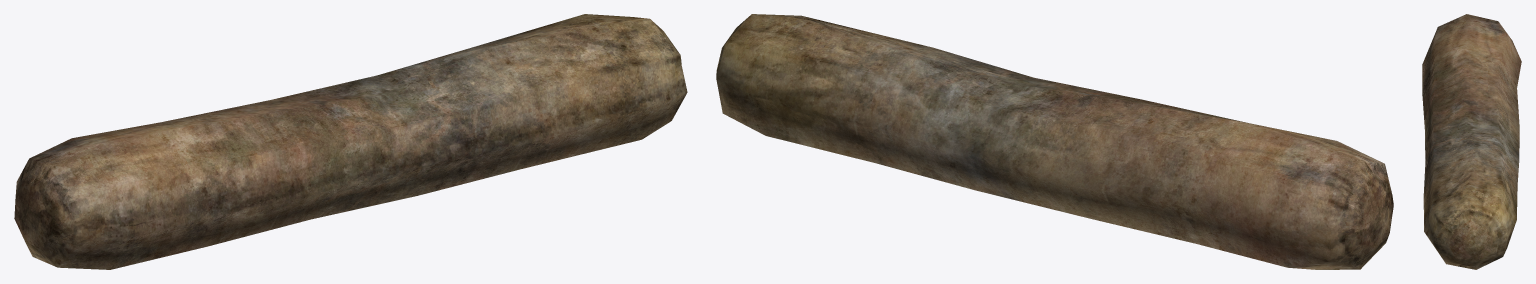
File: oldBolster.FBX
3 views of the same model, side by side, from view 1: azimuth 30°, elevation 25°; view 2: azimuth 150°, elevation 25°; view 3: azimuth 270°, elevation 25° (orthographic). The views are drawn at different scales.
Parts seen in each view (by area): view 1: SM_OldBolster01; view 2: SM_OldBolster01; view 3: SM_OldBolster01.
Part boxes in pixels (left/top/right/bottom): SM_OldBolster01: left=14, top=14, right=687, bottom=269; SM_OldBolster01: left=716, top=14, right=1393, bottom=269; SM_OldBolster01: left=1422, top=14, right=1521, bottom=269.
Bounding box in the file's own units: 160 × 28.54 × 32.95.
Materials: 1 (1 with a texture image).
